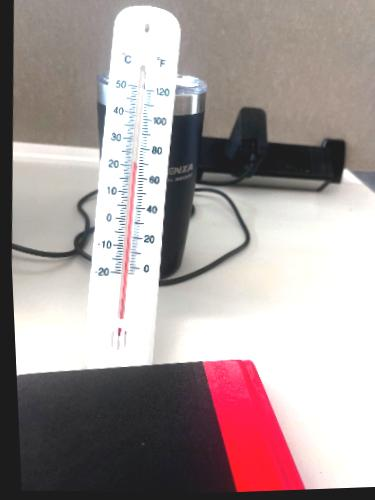thermo: (81, 7, 185, 366)
